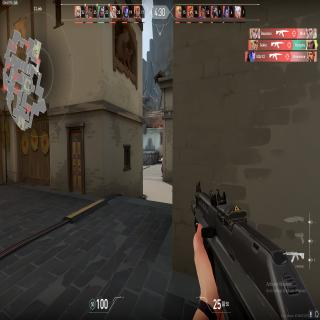ENEMY-BODY: (158, 154, 164, 178)
ENEMY-HEAD: (161, 155, 163, 158)
